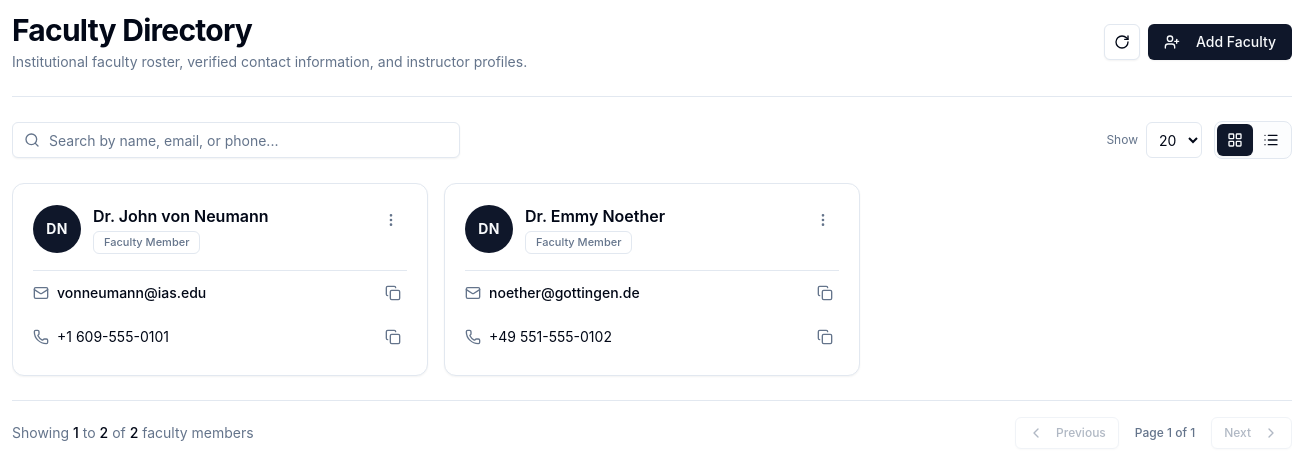
Scenario: LecturerDirectoryPage › toggles to table view and displays tabulated records
The width and height of the screenshot is (1304, 466).
Expected: the heading "Dr. John von Neumann" is shown, [93, 204, 269, 228]
// Click table view button
Click the button titled "Table View" at (1271, 140), box [1253, 124, 1289, 156]
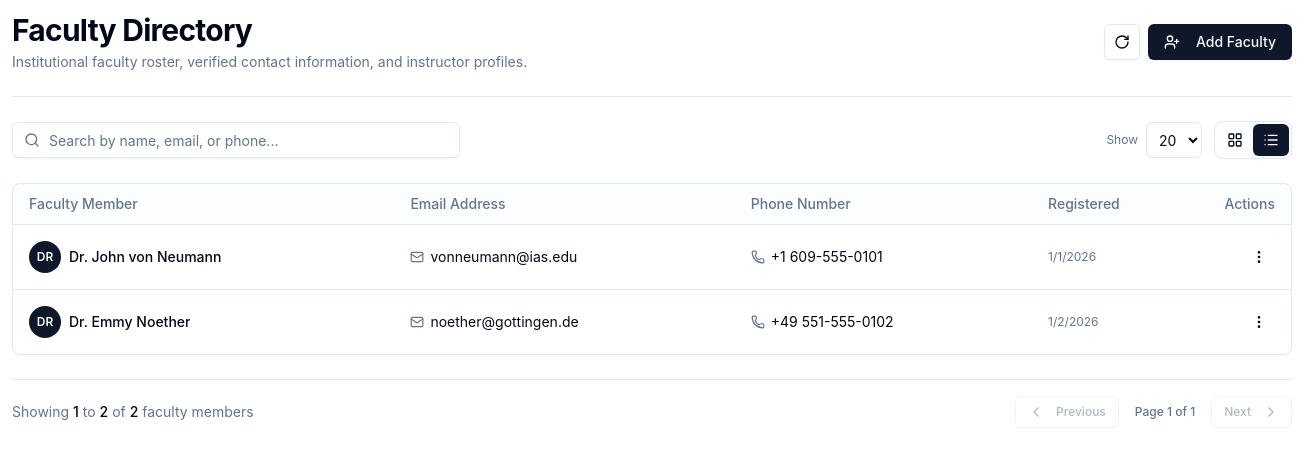
Expected: the column heading "Email Address" is shown, [394, 184, 735, 224]
Expected: the column heading "Phone Number" is shown, [735, 184, 1032, 224]
Expected: the column heading "Registered" is shown, [1032, 184, 1208, 224]
